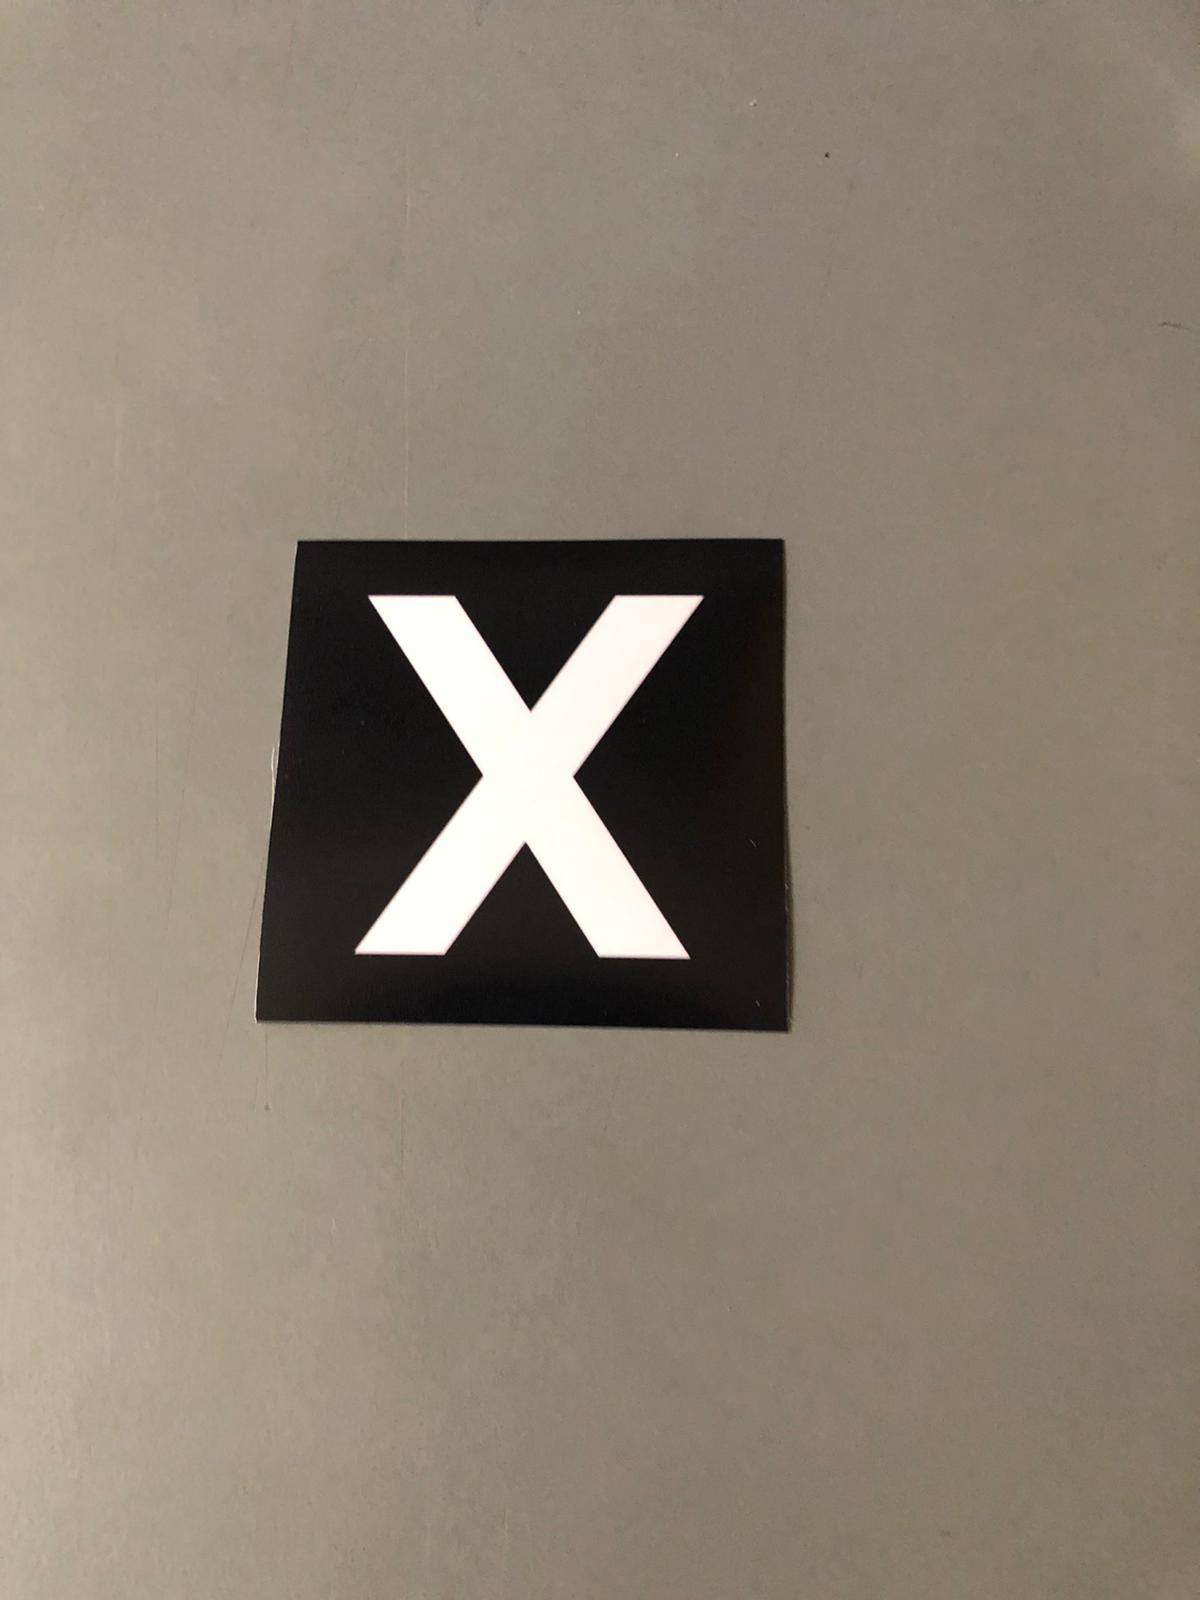X: (314, 546, 758, 1008)
